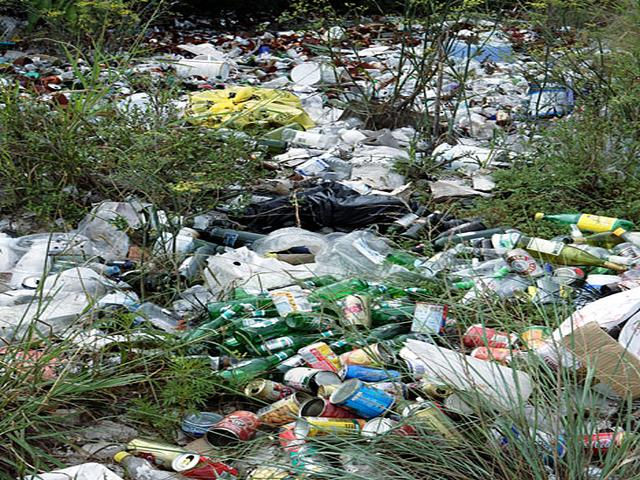garbage: (179, 61, 531, 428)
